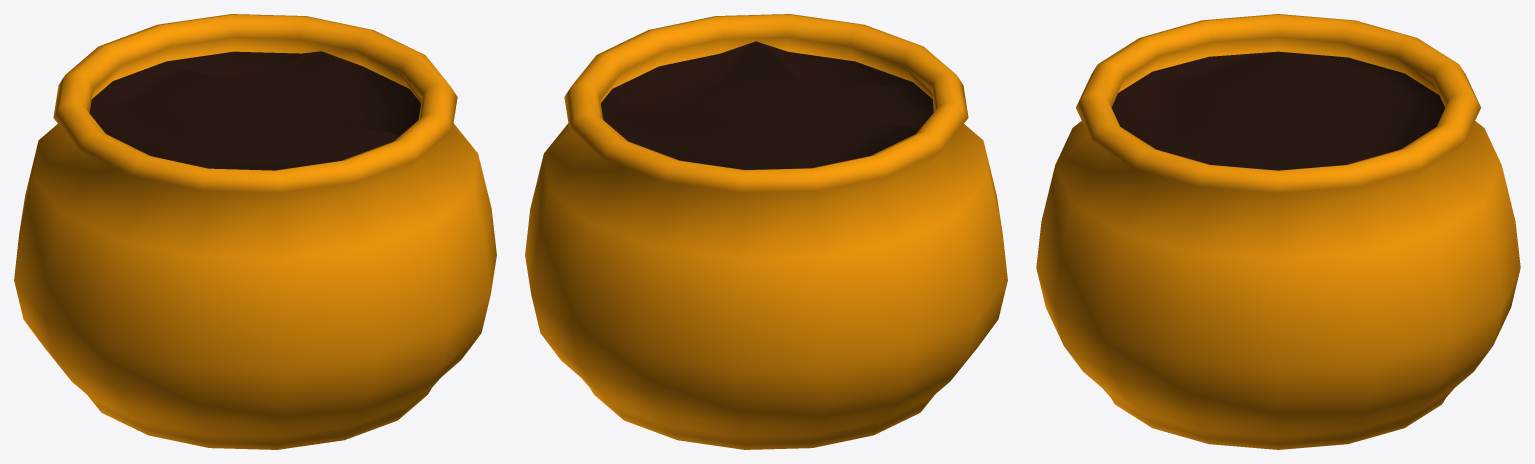
Rendered from Food Bowl.FBX.
3 renders of one model, left to right at view 1: azimuth 30°, elevation 25°; view 2: azimuth 150°, elevation 25°; view 3: azimuth 270°, elevation 25°, orthographic.
Visible parts, largest first — view 1: Teapot001; view 2: Teapot001; view 3: Teapot001.
Boxes of the visible parts, x1=… form: Teapot001: x1=14, y1=14, x2=496, y2=449; Teapot001: x1=525, y1=14, x2=1007, y2=449; Teapot001: x1=1036, y1=14, x2=1520, y2=449.
Bounding box in the file's own units: 93.23 × 62.53 × 93.23.
